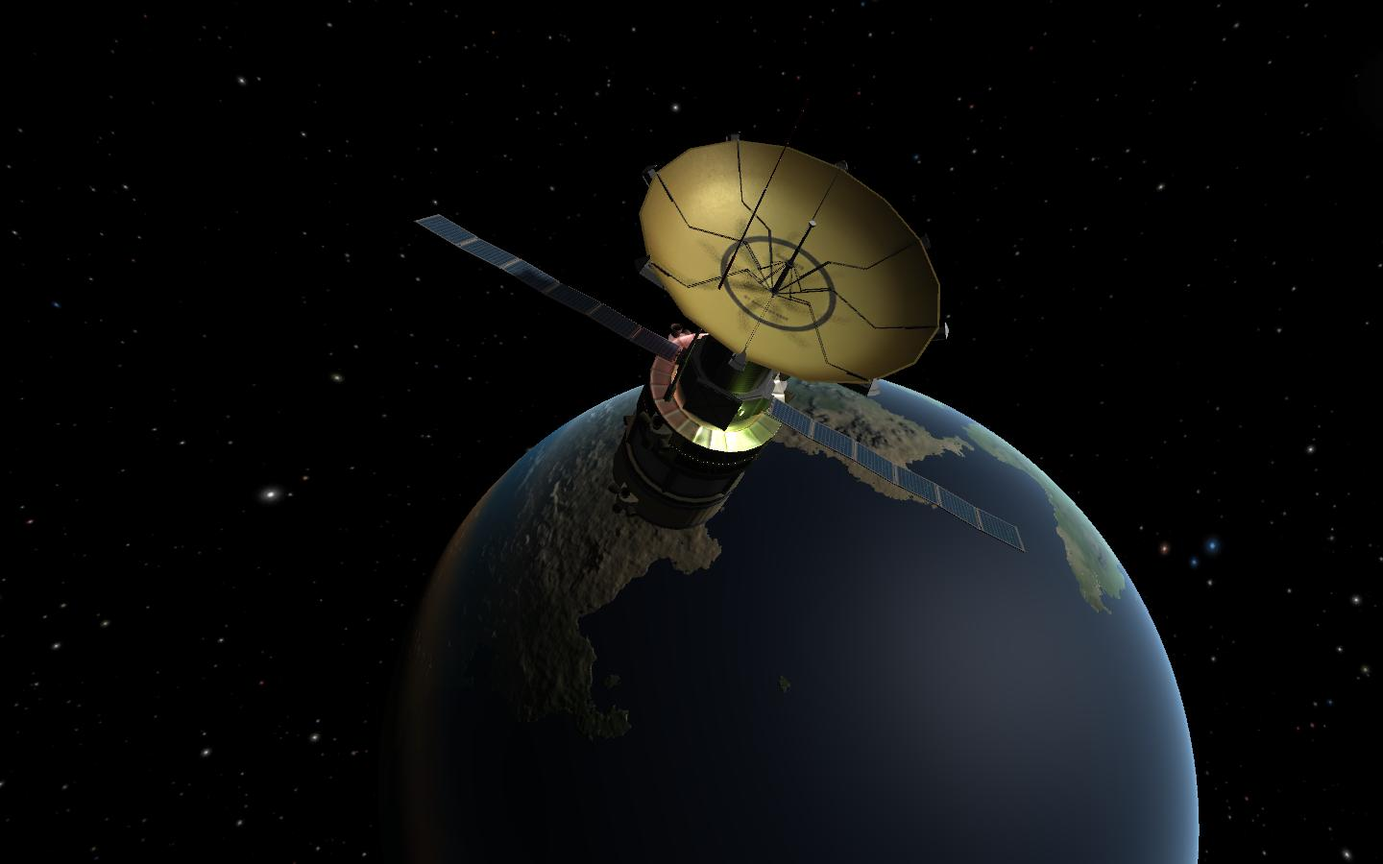antenna: (631, 128, 954, 385)
body: (607, 332, 781, 528)
solar: (771, 392, 1030, 553), (414, 205, 680, 361)
